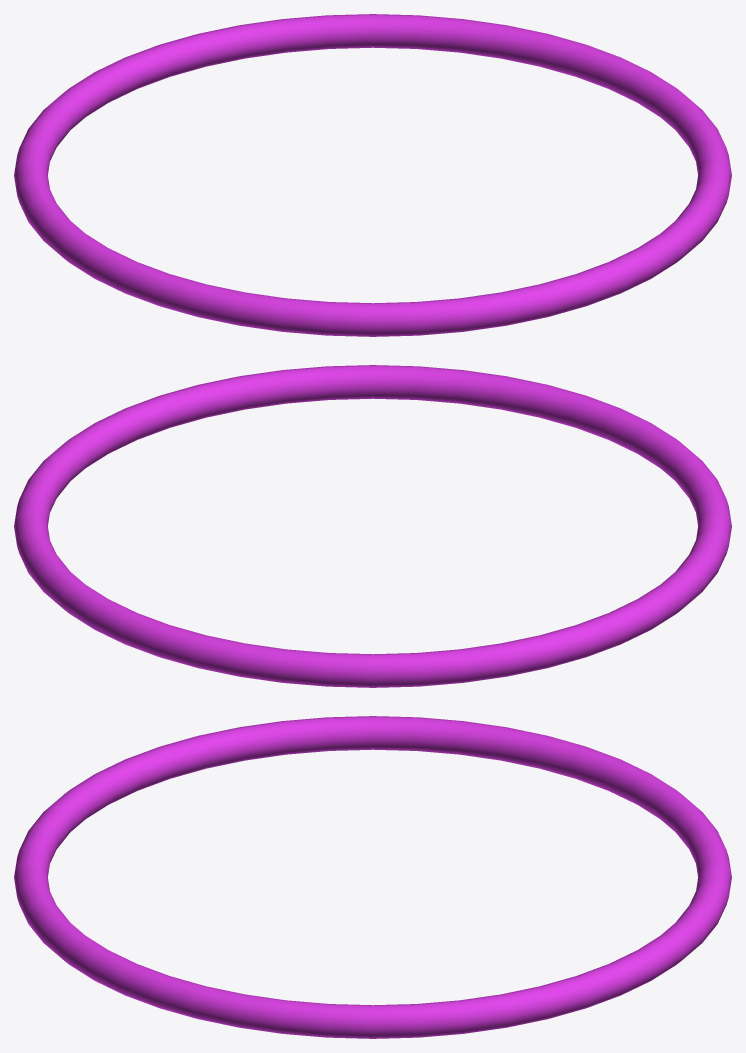
Rendered from cerceau.fbx.
3 renders of one model, top to bottom at view 1: azimuth 30°, elevation 25°; view 2: azimuth 150°, elevation 25°; view 3: azimuth 270°, elevation 25°, orthographic.
Visible parts, largest first — view 1: Cerceau; view 2: Cerceau; view 3: Cerceau.
Part boxes in pixels (x1,y1,x2,y2): Cerceau: (14,14,731,336); Cerceau: (14,365,731,687); Cerceau: (14,716,731,1038).
Bounding box in the file's own units: 939 × 44.32 × 939.
